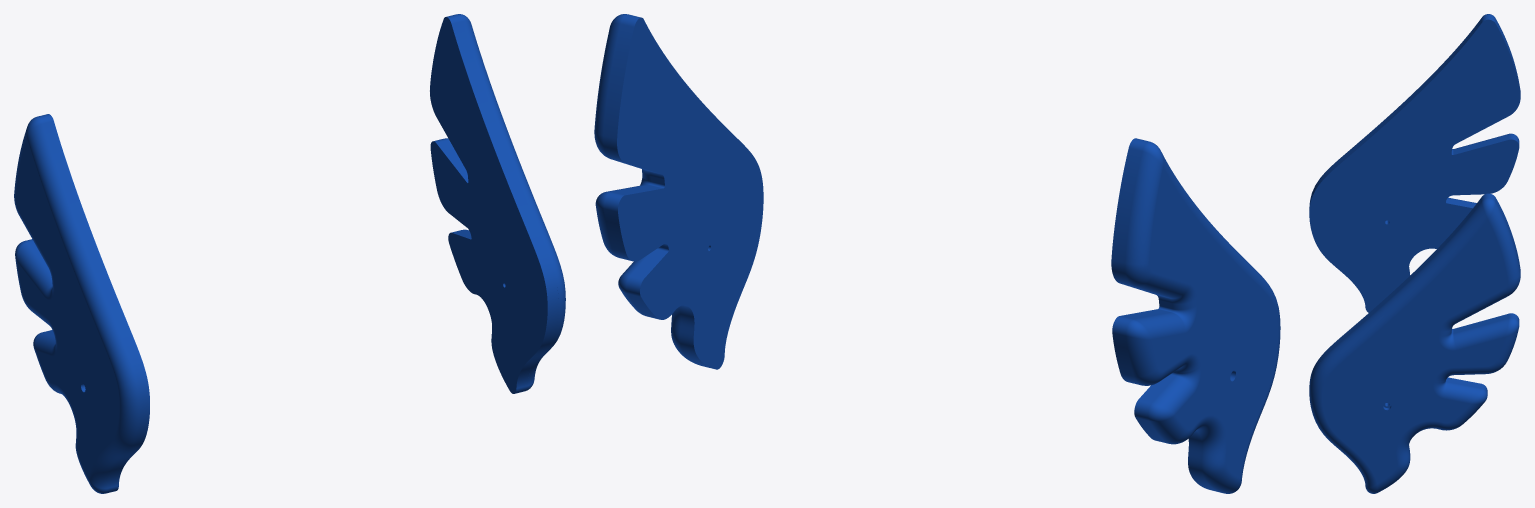
File: ear.dae
3 renders of one model, left to right at view 1: azimuth 30°, elevation 25°; view 2: azimuth 150°, elevation 25°; view 3: azimuth 270°, elevation 25°, orthographic. The views are drawn at different scales.
Parts seen in each view (by area): view 1: Ear(8inch)_L, Ear(8inch)_R; view 2: Ear(8inch)_L, Ear(8inch)_R; view 3: Ear(8inch)_L, Ear(8inch)_R.
Part boxes in pixels (x1=…): Ear(8inch)_L: x1=430, y1=14, x2=565, y2=393; Ear(8inch)_R: x1=14, y1=114, x2=149, y2=493; Ear(8inch)_L: x1=594, y1=14, x2=763, y2=369; Ear(8inch)_R: x1=1111, y1=138, x2=1280, y2=493; Ear(8inch)_L: x1=1309, y1=193, x2=1520, y2=493; Ear(8inch)_R: x1=1309, y1=14, x2=1520, y2=312.
Size of the model in its own units: 0.284 by 0.1305 by 0.2008.
